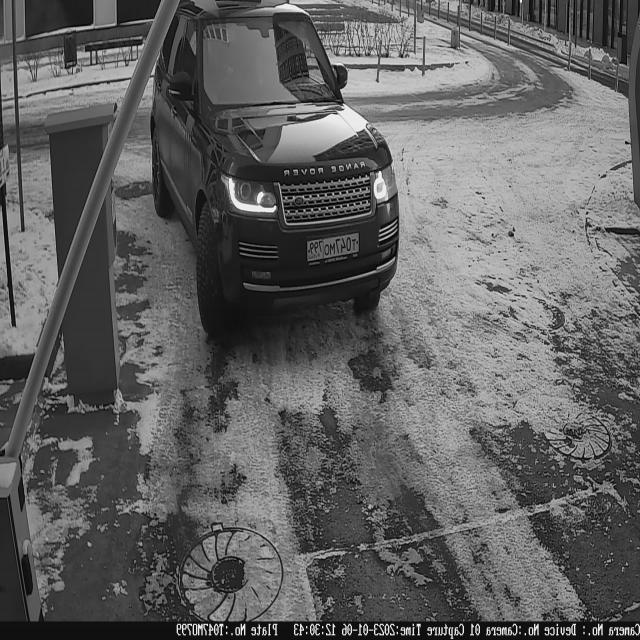car-plate-numbers: (306, 229, 362, 267)
